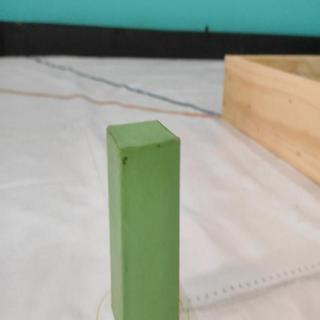greenbox: (106, 118, 182, 320)
